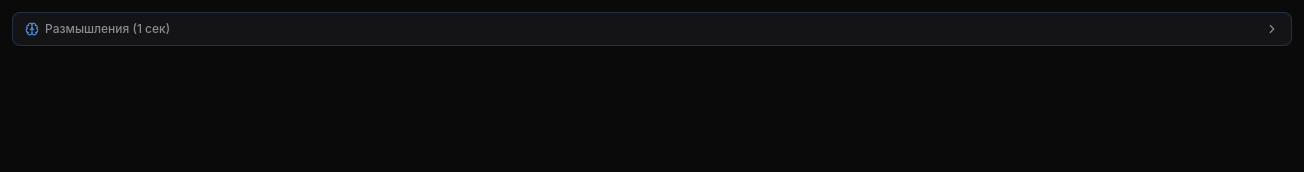
Scenario: Frontend ThinkingBlock Adversarial Stress Tests › handles empty thinking strings cleanly both during live and finished states
Later steps or results of the test are not shown.
expect the text "Размышления (1 сек)" is shown: met, box [45,21,170,37]
expect the text "(нет записей)" is not shown: met
# Click to expand finished empty card
Click the button titled "Показать размышления" at (91, 28), box [13,13,1291,45]
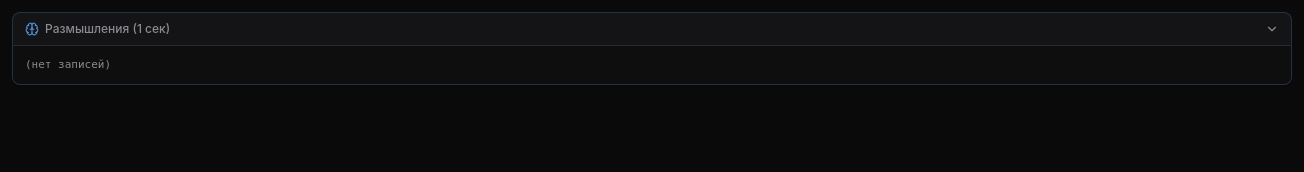
expect the text "(нет записей)" is shown: met, box [13,45,1291,84]
expect the button titled "Скрыть размышления" is shown: met, box [13,13,1291,45]
